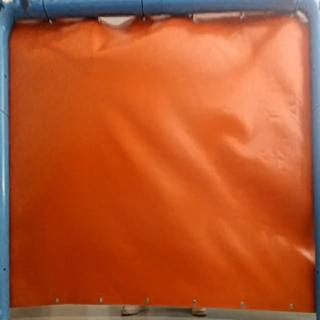Hit-hRxx: (82, 50, 100, 64)
